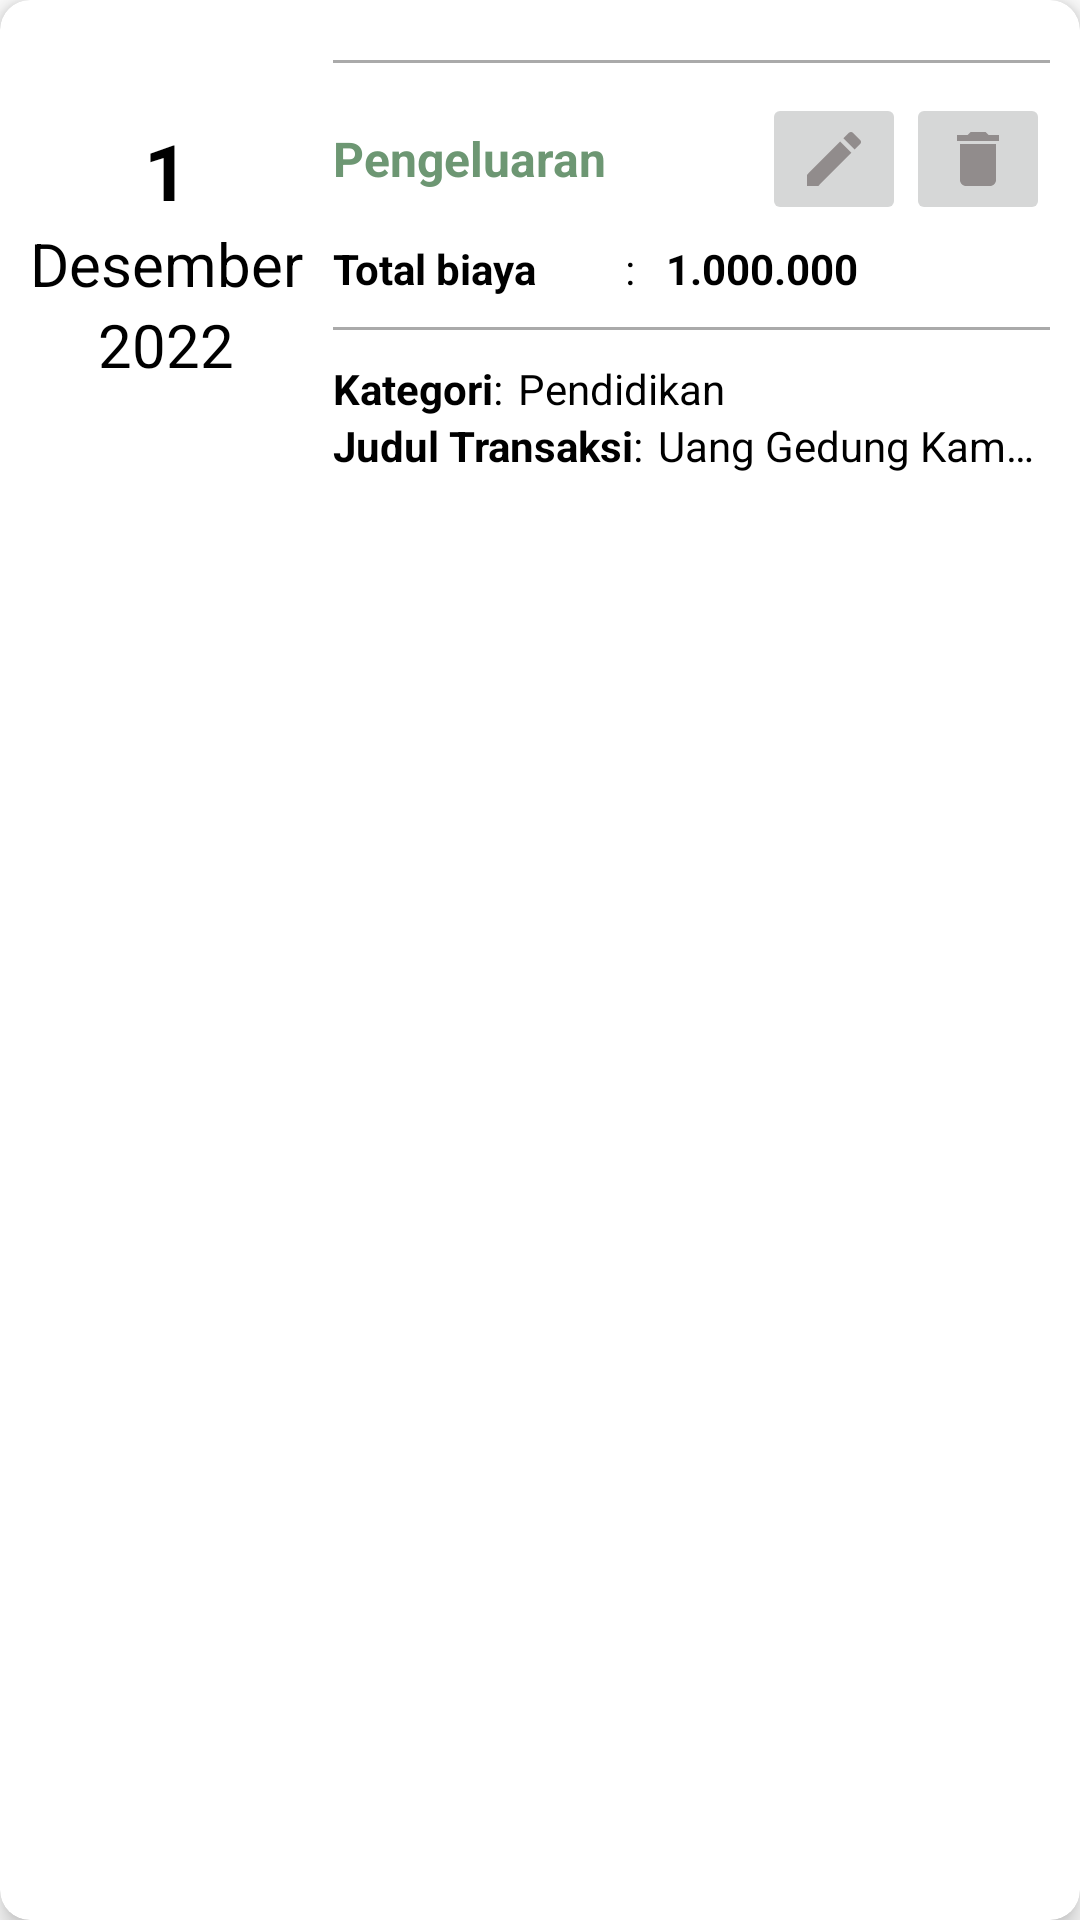

Named icons in this screenshot (1080px x 1920px) and their bounding boxes, detection(x1, y1, x2, y2):
delete: detection(918, 111, 1038, 207)
edit: detection(774, 111, 894, 207)
